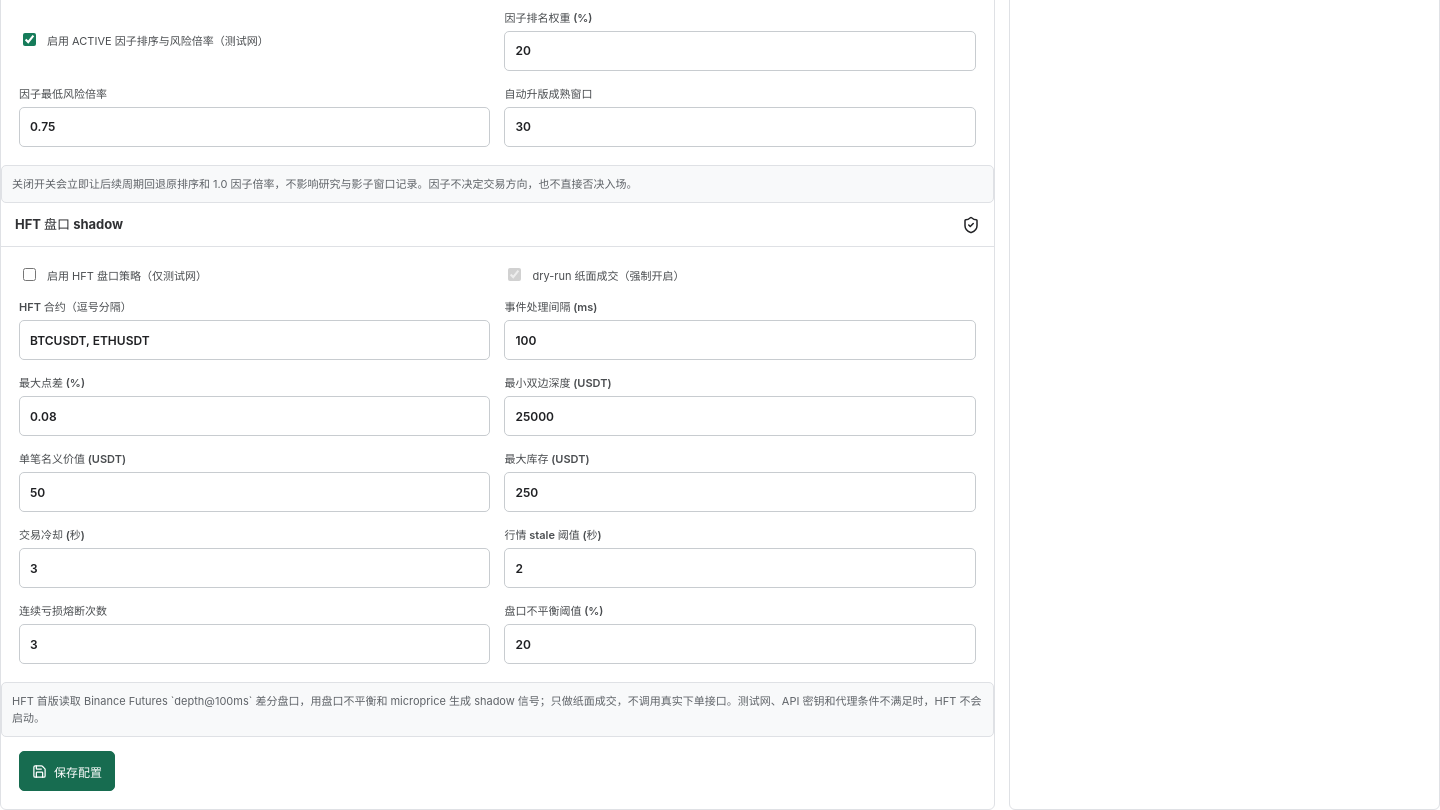
Test: shows a readable API validation error in the confirmation dialog
(page scrolled)
Click the button "保存配置" at (67, 771), box [19,751,115,791]
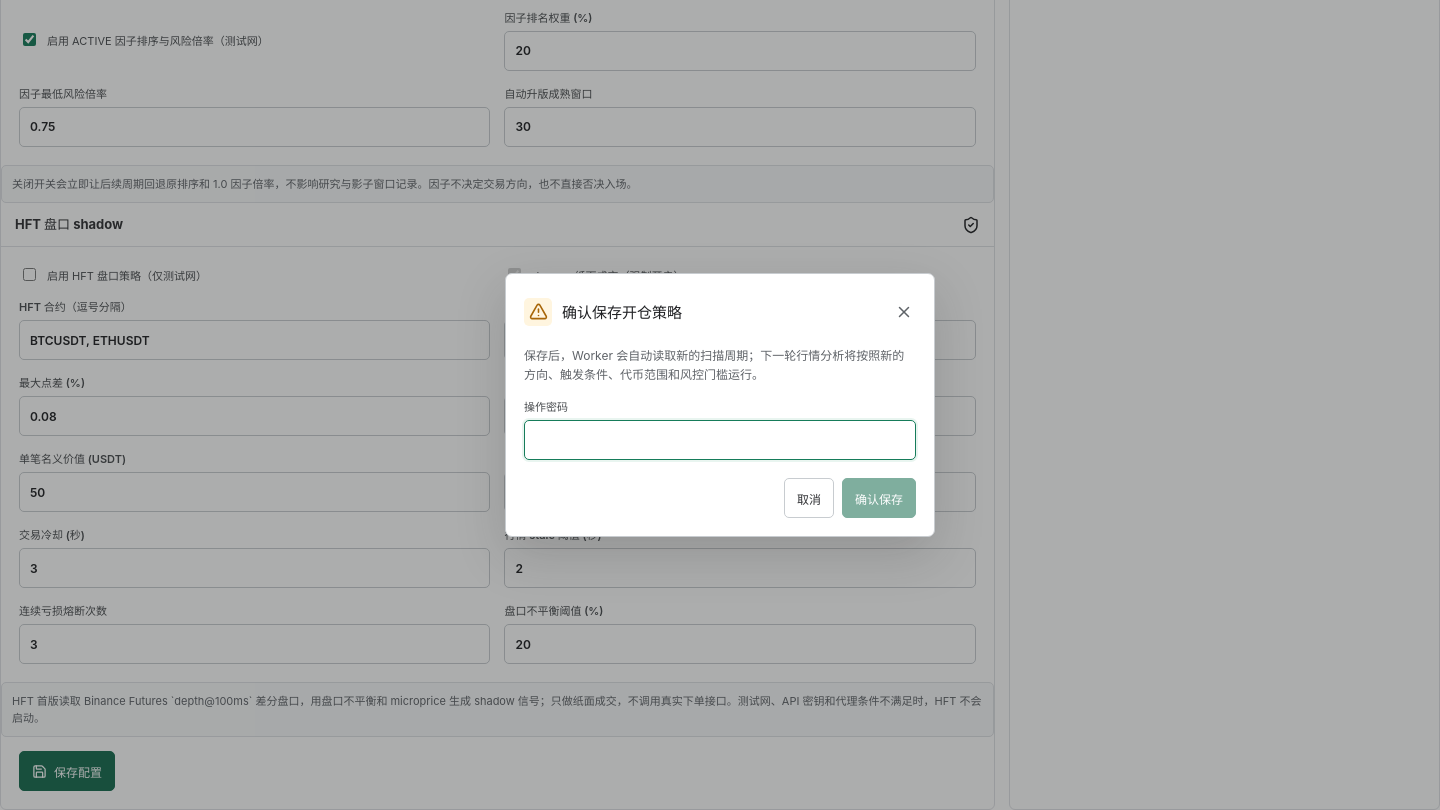
Type "operator-password" into the password field labelled "操作密码" at (720, 440), box [524,420,916,460]
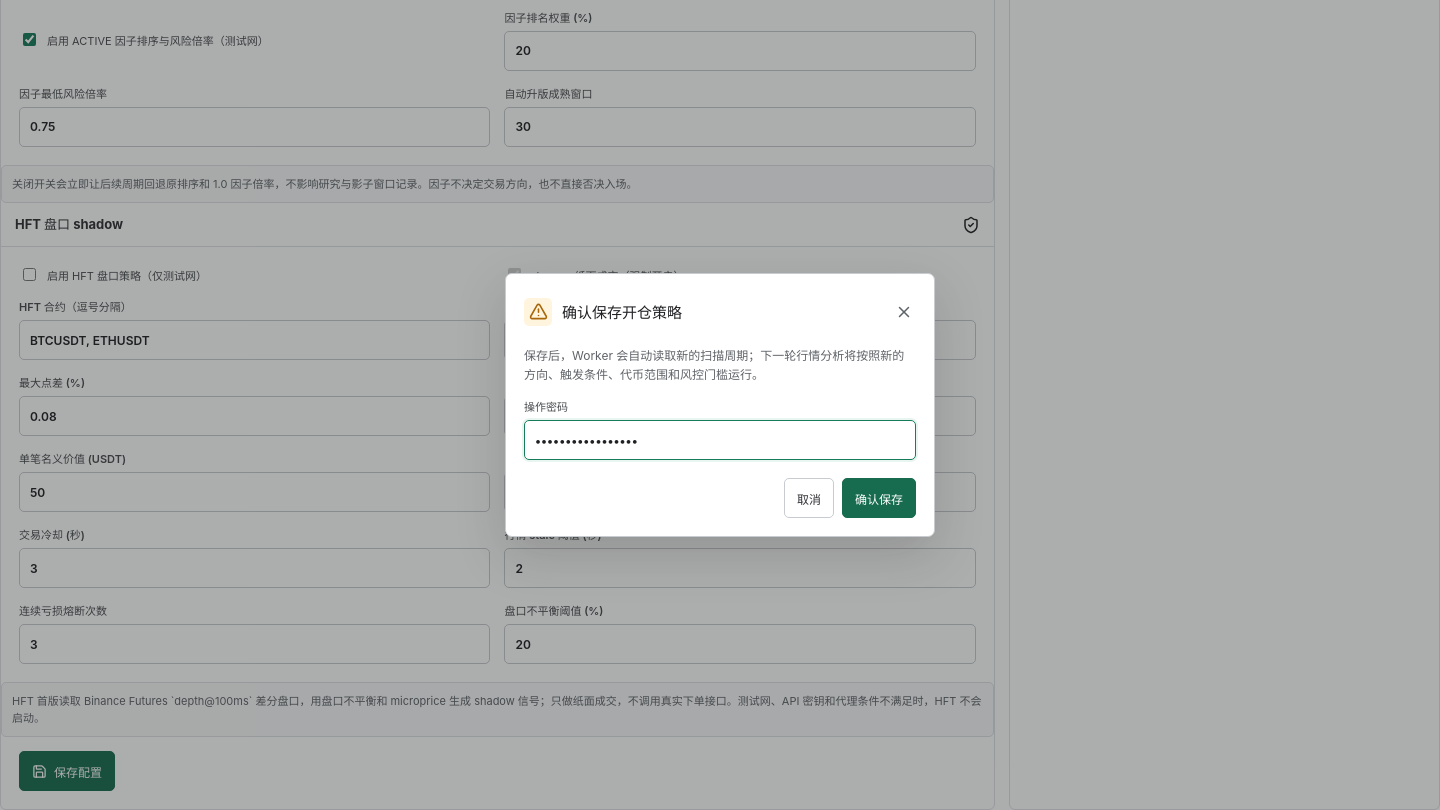
Click the button "确认保存" at (879, 498), box [842,478,916,518]
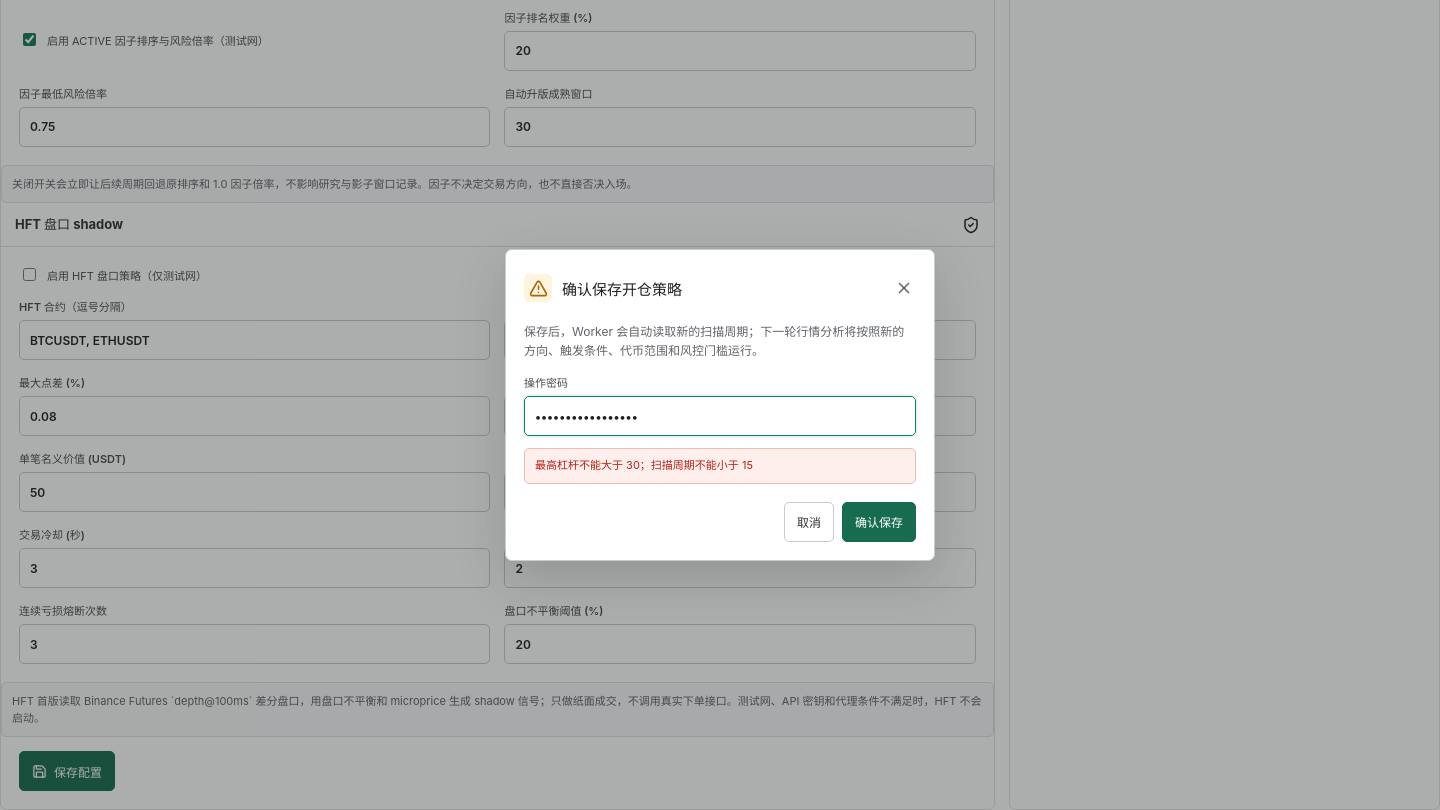
Now the message reads "最高杠杆不能大于 30；扫描周期不能小于 15", box [535,458,753,472]
